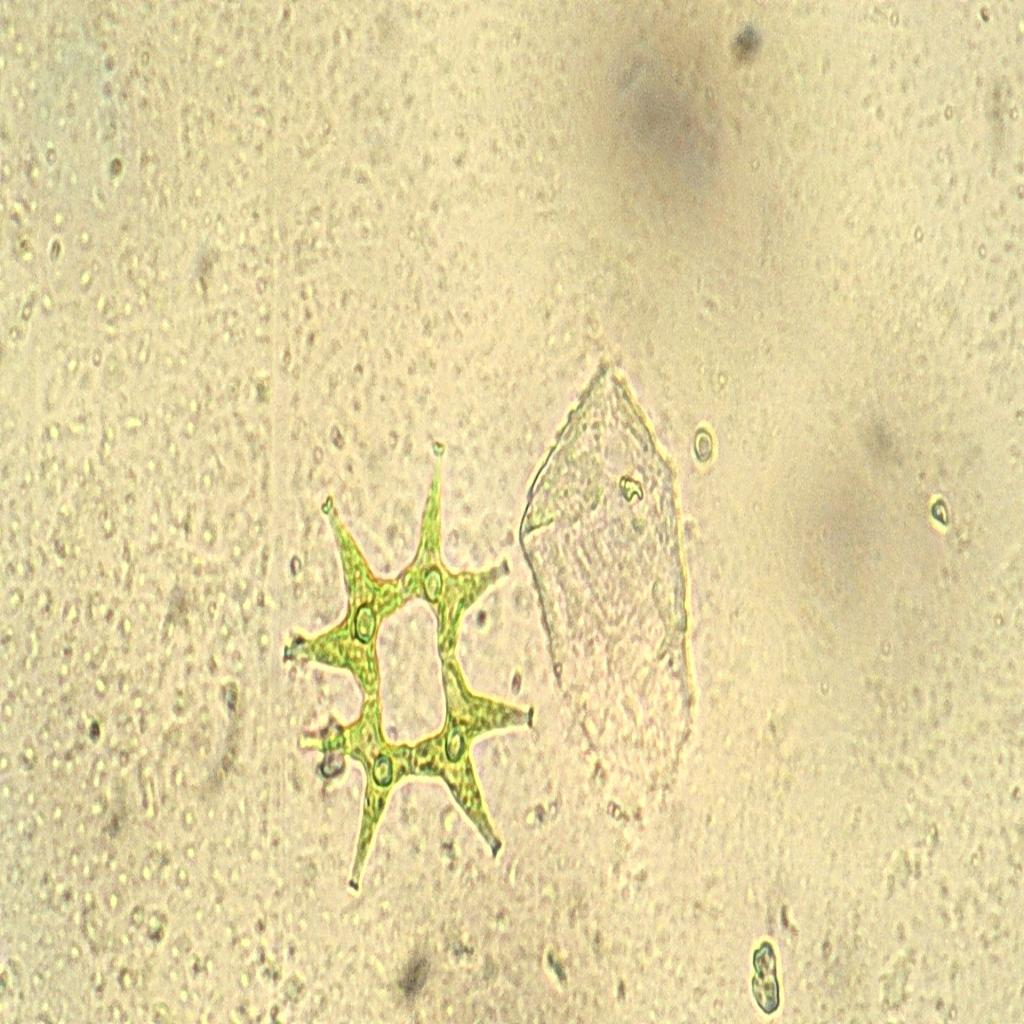Pediastrum_10: (260, 425, 562, 912)
